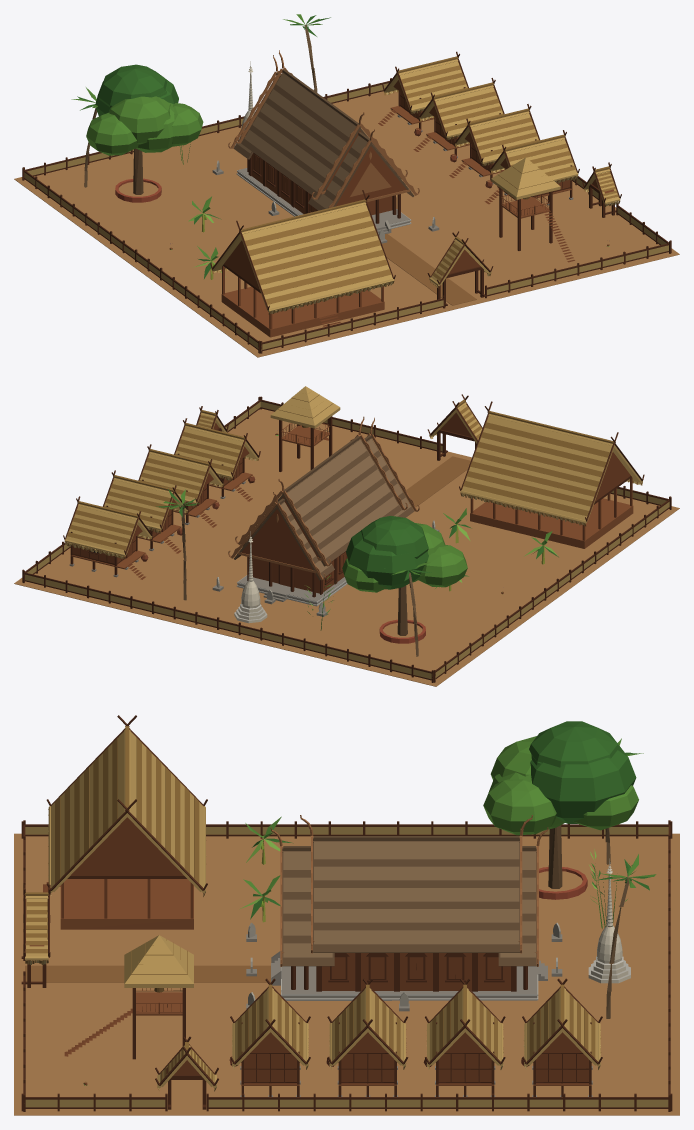
File: temple_2.glb
3 views of the same model, one above another, from view 1: azimuth 30°, elevation 25°; view 2: azimuth 150°, elevation 25°; view 3: azimuth 270°, elevation 25° (orthographic). The views are drawn at different scales.
Parts seen in each view (by area): view 1: body; view 2: body; view 3: body.
Part boxes in pixels (bbox=[...]): body: bbox=[14, 14, 679, 357]; body: bbox=[14, 386, 679, 686]; body: bbox=[14, 715, 679, 1115].
Bounding box in the file's own units: 47.9 × 13.06 × 47.9.
